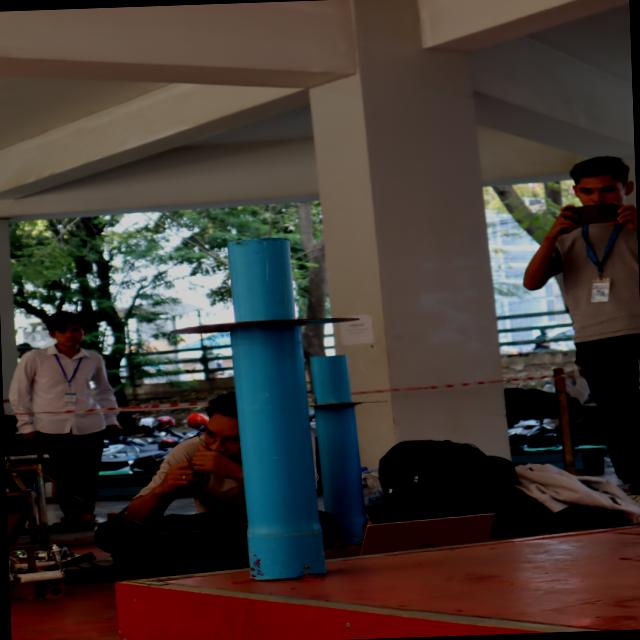pole: (158, 232, 358, 383), (303, 346, 362, 446)
